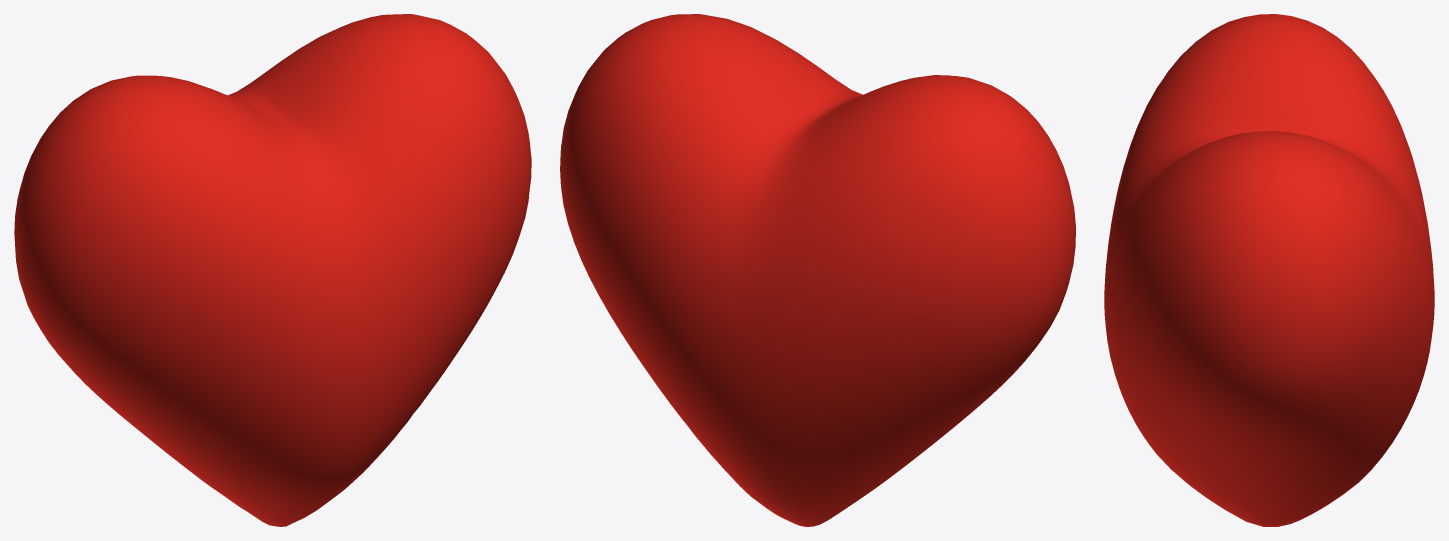
The model's file is Live.fbx.
3 views of the same model, side by side, from view 1: azimuth 30°, elevation 25°; view 2: azimuth 150°, elevation 25°; view 3: azimuth 270°, elevation 25° (orthographic). The views are drawn at different scales.
Visible parts, largest first — view 1: node_id26; view 2: node_id26; view 3: node_id26.
Boxes of the visible parts, x1,y1,x2,y2 form: node_id26: (14, 14, 531, 526); node_id26: (560, 14, 1075, 526); node_id26: (1104, 14, 1434, 526).
Size of the model in its own units: 0.4063 by 0.3742 by 0.2533.
1 material, 1 textured.
